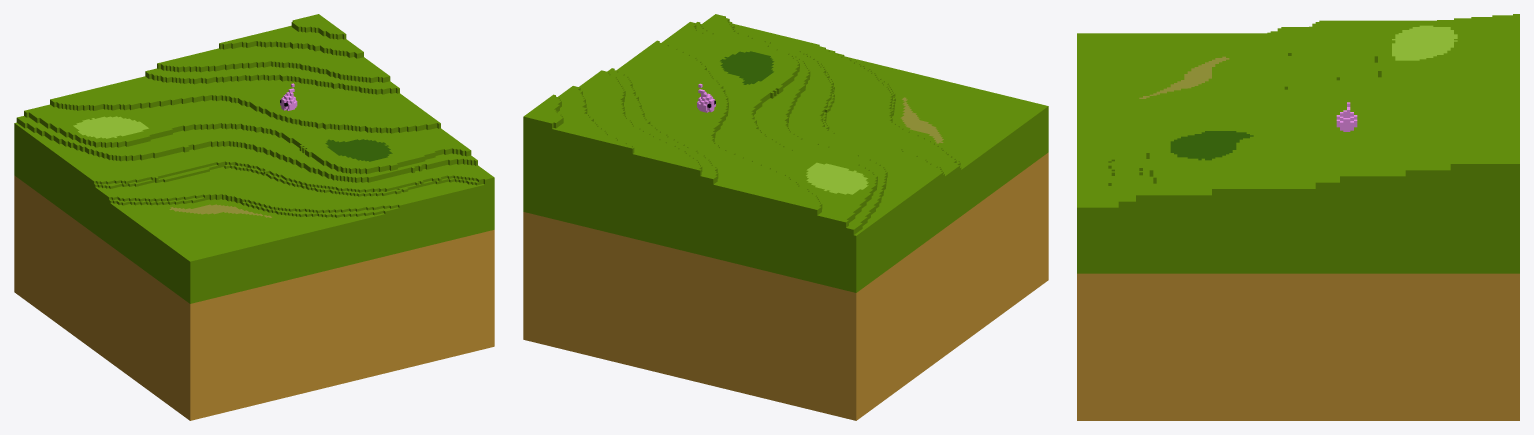
3 views of the same model, side by side, from view 1: azimuth 30°, elevation 25°; view 2: azimuth 150°, elevation 25°; view 3: azimuth 270°, elevation 25° (orthographic). The views are drawn at different scales.
Parts seen in each view (by area): view 1: 6A; view 2: 6A; view 3: 6A.
Part boxes in pixels (x1,y1,x2,y2): 6A: [14, 14, 494, 420]; 6A: [523, 14, 1048, 420]; 6A: [1077, 14, 1519, 420].
Size of the model in its own units: 12.8 by 8.3 by 12.8.
Materials: 1 (1 with a texture image).
